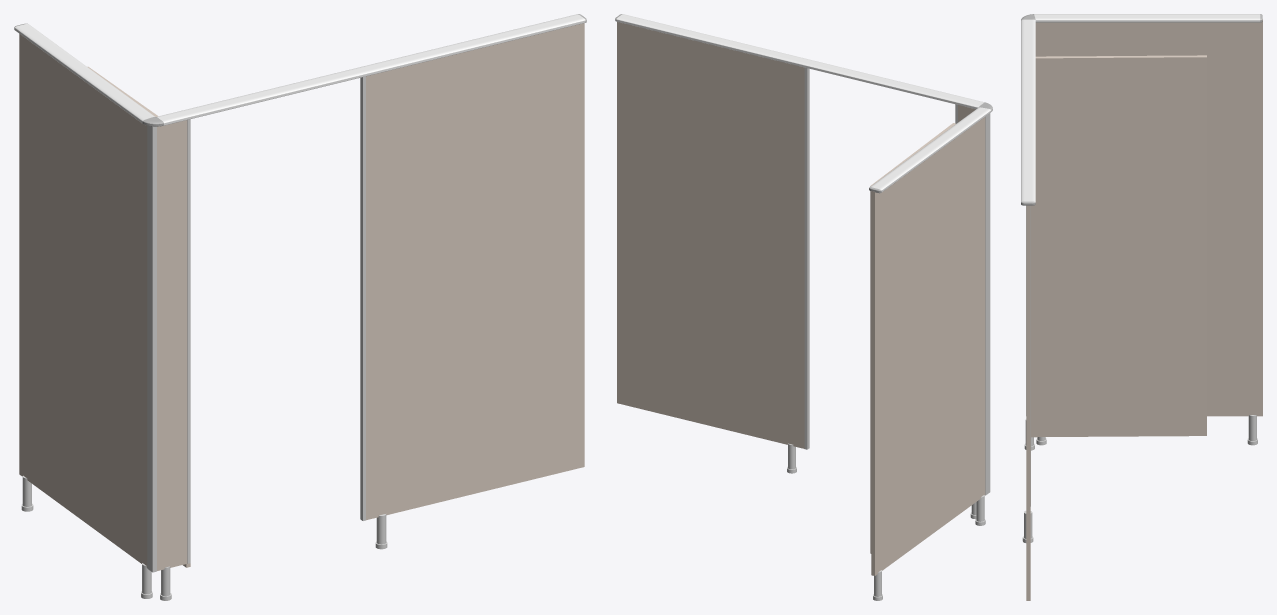
The model's file is wall_toilet.fbx.
3 views of the same model, side by side, from view 1: azimuth 30°, elevation 25°; view 2: azimuth 150°, elevation 25°; view 3: azimuth 270°, elevation 25° (orthographic). The views are drawn at different scales.
Parts seen in each view (by area): view 1: Cube.051, Cube.018, Cube.017, Cube.050, Cube.052, Cube.053, Cube.054, Cylinder.002; view 2: Cube.051, Cube.018, Cube.050, Cube.053, Cube.052, Cube.014, Cylinder.002; view 3: Cube.014, Cube.018, Cube.050, Cube.051, Cylinder.002.
Part boxes in pixels (bbox=[...]): Cube.051: bbox=[366, 23, 584, 520]; Cube.018: bbox=[19, 34, 147, 567]; Cube.017: bbox=[157, 120, 187, 570]; Cube.050: bbox=[14, 14, 586, 126]; Cube.052: bbox=[147, 125, 156, 572]; Cube.053: bbox=[360, 76, 365, 520]; Cube.054: bbox=[187, 119, 190, 563]; Cylinder.002: bbox=[22, 475, 386, 594]; Cube.051: bbox=[617, 22, 804, 448]; Cube.018: bbox=[871, 117, 985, 575]; Cube.050: bbox=[615, 14, 992, 193]; Cube.053: bbox=[804, 67, 809, 449]; Cube.052: bbox=[985, 113, 990, 495]; Cube.014: bbox=[870, 123, 955, 553]; Cylinder.002: bbox=[788, 443, 984, 596]; Cube.014: bbox=[1031, 55, 1206, 437]; Cube.018: bbox=[1035, 19, 1262, 416]; Cube.050: bbox=[1021, 14, 1262, 205]; Cube.051: bbox=[1026, 205, 1030, 600]; Cylinder.002: bbox=[1024, 415, 1256, 538].
Size of the model in its own units: 213 by 223 by 115.
